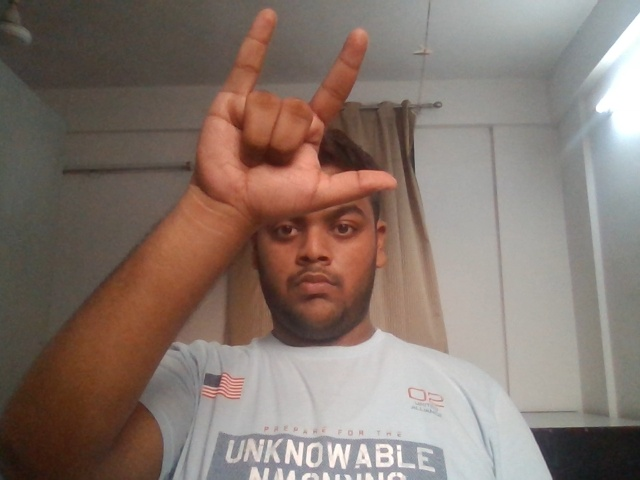I Love You: (173, 4, 410, 262)
